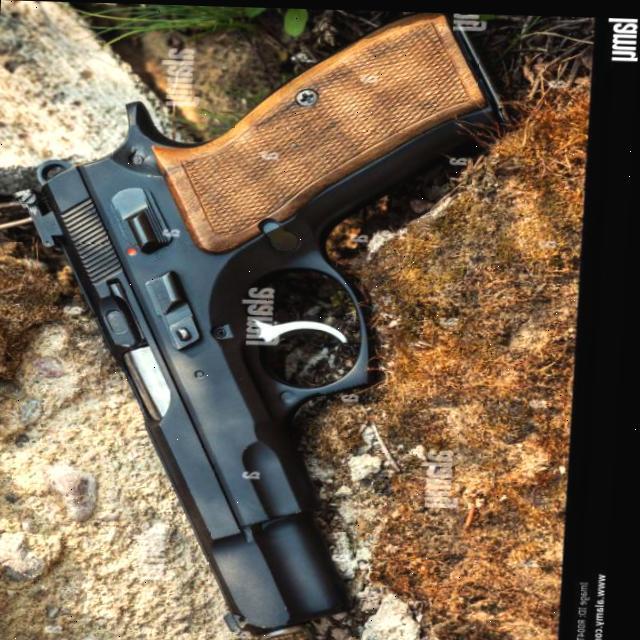gun: (6, 1, 512, 640)
